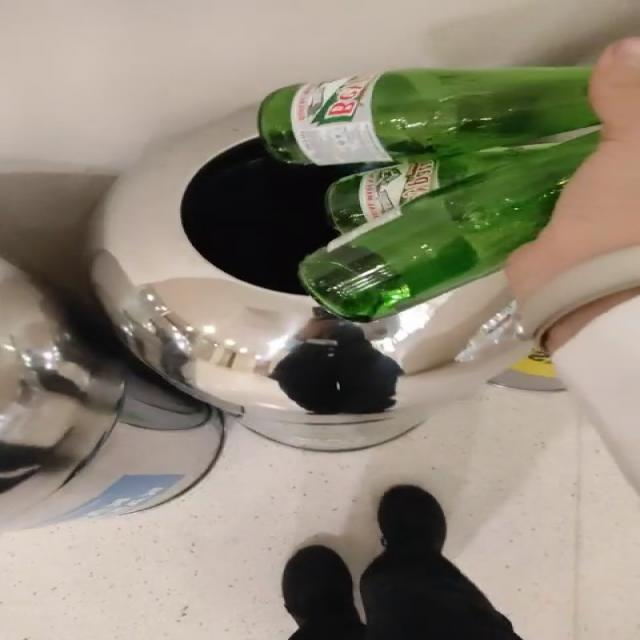bin: (91, 106, 532, 451)
glass: (259, 68, 600, 321)
